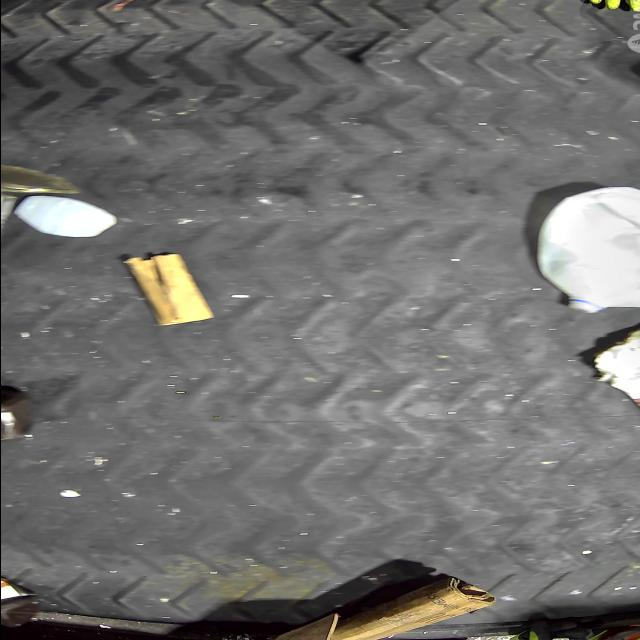can: (0, 164, 80, 194)
milk_jug: (534, 185, 640, 312)
non_white_jug: (0, 573, 41, 627)
